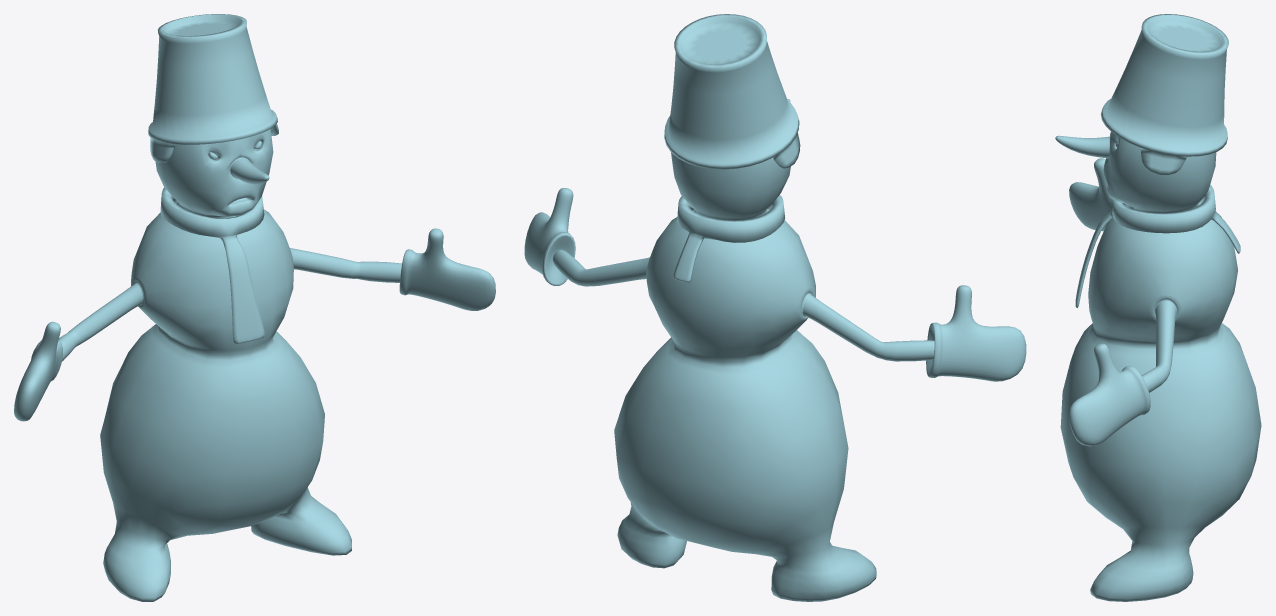
Rendered from snowman.FBX.
3 views of the same model, side by side, from view 1: azimuth 30°, elevation 25°; view 2: azimuth 150°, elevation 25°; view 3: azimuth 270°, elevation 25° (orthographic). The views are drawn at different scales.
Visible parts, largest first — view 1: snowman1; view 2: snowman1; view 3: snowman1.
Part boxes in pixels (x1,y1,x2,y2): snowman1: (14, 14, 495, 601); snowman1: (524, 14, 1026, 601); snowman1: (1055, 14, 1261, 601).
Bounding box in the file's own units: 41.06 × 43.44 × 15.5.
